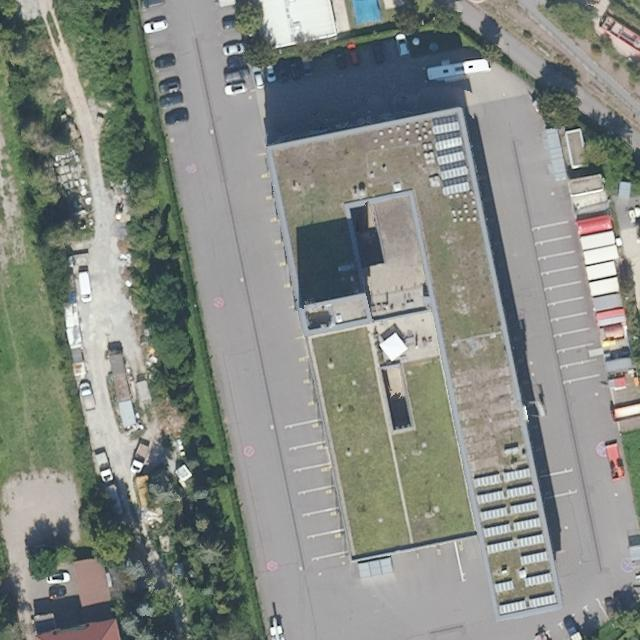PV: (481, 515, 544, 540), (484, 532, 547, 557), (475, 483, 537, 507), (478, 499, 539, 523), (472, 467, 531, 489), (497, 597, 528, 619), (521, 571, 556, 590), (439, 179, 473, 198), (517, 549, 551, 568), (527, 592, 559, 611), (439, 164, 470, 183), (436, 149, 466, 166), (434, 135, 464, 152), (430, 121, 462, 136), (491, 577, 516, 596)
